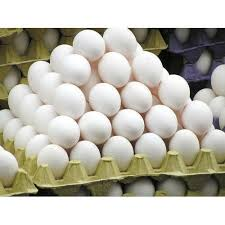eggs: (70, 16, 166, 119), (59, 74, 151, 180), (9, 67, 78, 163), (145, 84, 221, 170), (126, 37, 175, 133)
